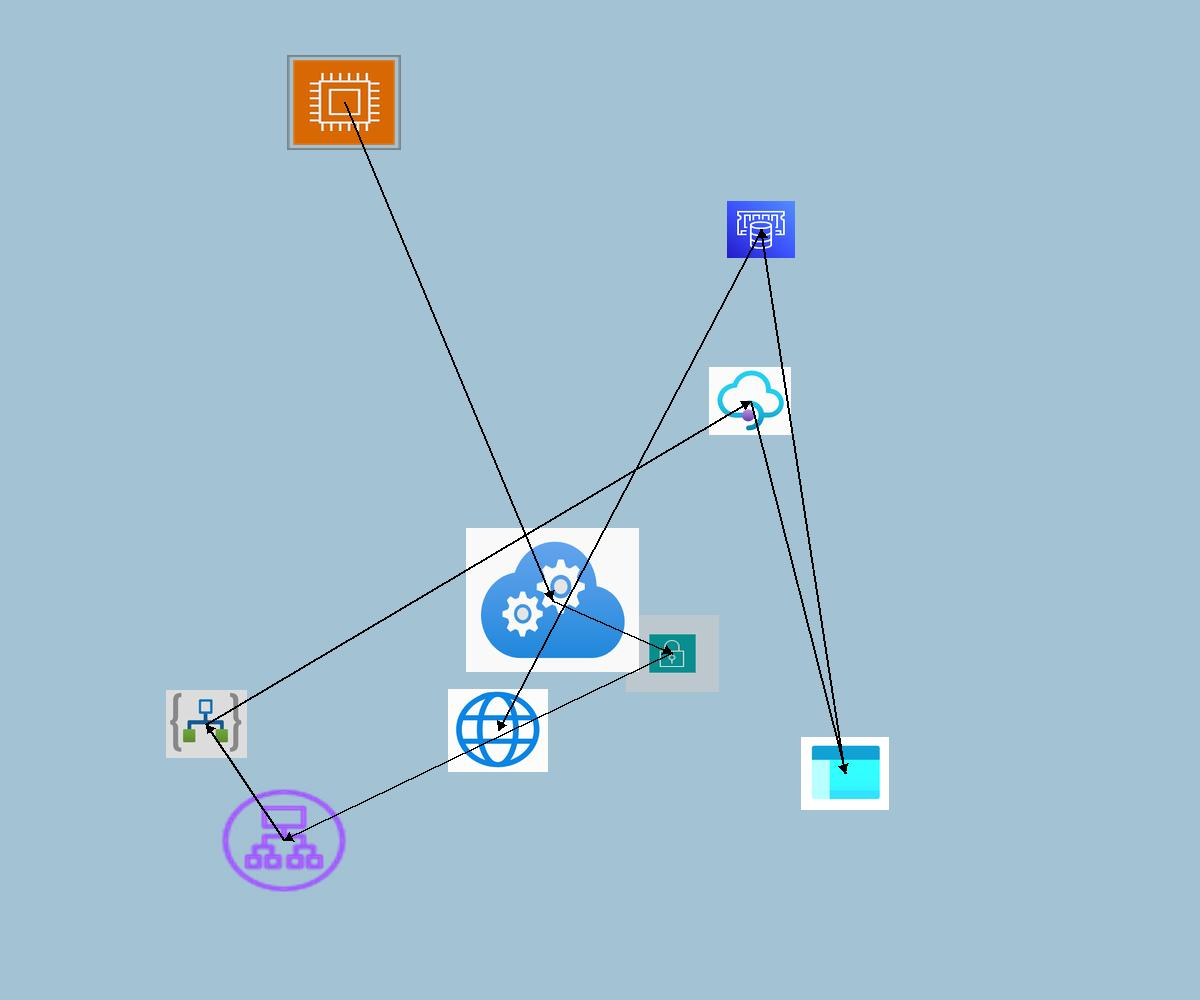AWS-Category_Compute: (287, 55, 401, 150)
AWS-ElastiCache: (727, 201, 795, 258)
AWS-Private-subnet: (626, 615, 719, 692)
AWS-Res_Elastic-Load-Balancing_Application-Load-Balancer: (217, 785, 351, 896)
Azure_api_gateway: (709, 367, 791, 435)
Azure_cloud_services: (466, 528, 639, 672)
Azure_http: (448, 689, 548, 772)
Azure_integration-204-Logic-Apps: (166, 690, 247, 758)
Azure_management-portal: (801, 737, 889, 810)
